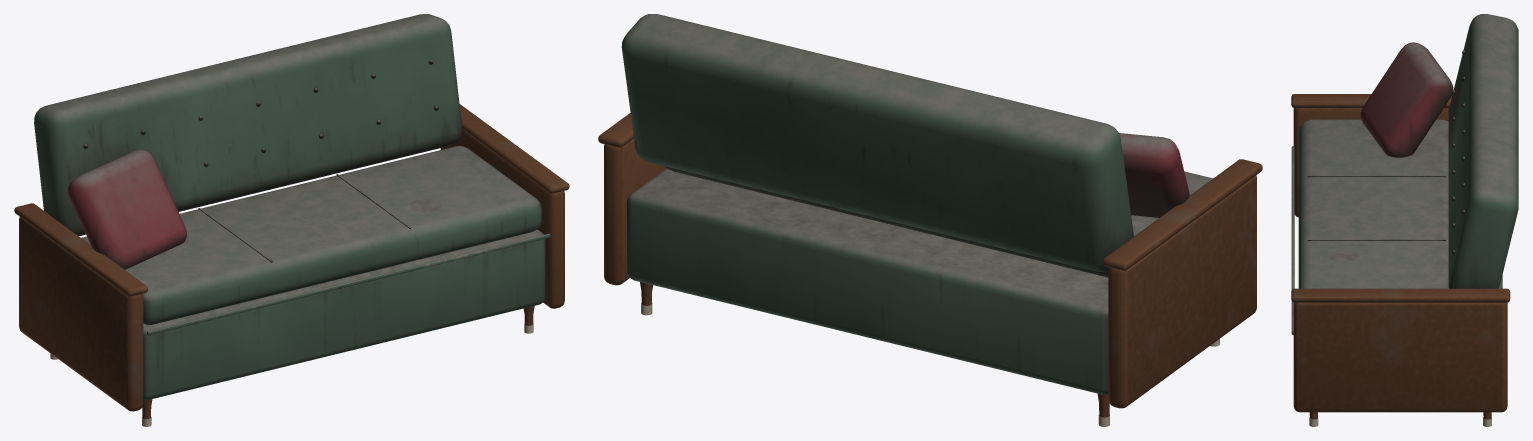
Rendered from SM_SofaBed.fbx.
3 renders of one model, left to right at view 1: azimuth 30°, elevation 25°; view 2: azimuth 150°, elevation 25°; view 3: azimuth 270°, elevation 25°, orthographic. The views are drawn at different scales.
Parts seen in each view (by area): view 1: SM_SofaBed; view 2: SM_SofaBed; view 3: SM_SofaBed.
Boxes of the visible parts, left/top/right/bottom form: SM_SofaBed: left=14, top=14, right=569, bottom=426; SM_SofaBed: left=598, top=14, right=1262, bottom=426; SM_SofaBed: left=1291, top=14, right=1518, bottom=426.
Bounding box in the file's own units: 1.92 × 1.03 × 0.9042.
Materials: 1 (1 with a texture image).
